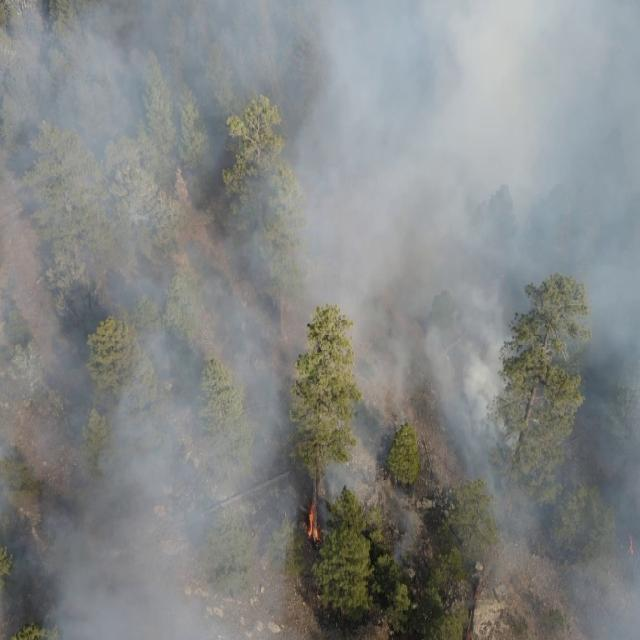fire: (460, 587, 481, 640), (306, 499, 324, 540), (624, 535, 634, 555)
smoke: (0, 0, 290, 640), (290, 0, 640, 306), (428, 306, 640, 640), (348, 306, 391, 502), (390, 305, 428, 425), (394, 502, 419, 562), (326, 461, 348, 504)
